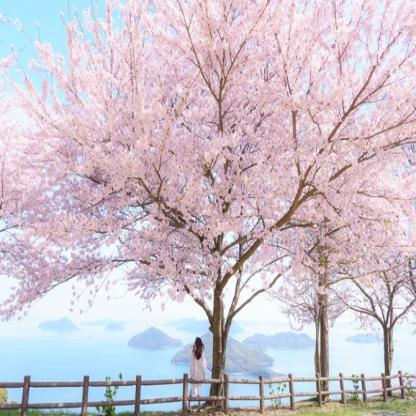Someiyoshino: (1, 3, 415, 319)
